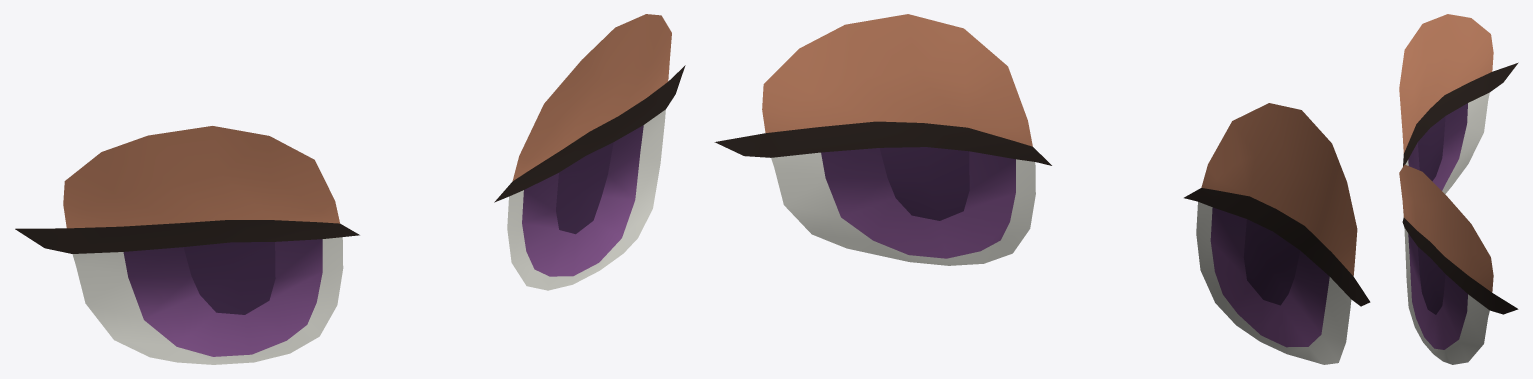
The model's file is Eye_Purple_3.fbx.
3 renders of one model, left to right at view 1: azimuth 30°, elevation 25°; view 2: azimuth 150°, elevation 25°; view 3: azimuth 270°, elevation 25°, orthographic. The views are drawn at different scales.
Visible parts, largest first — view 1: Eye_Purple_3; view 2: Eye_Purple_3; view 3: Eye_Purple_3.
Part boxes in pixels (x1,y1,x2,y2): Eye_Purple_3: (15, 14, 685, 364); Eye_Purple_3: (714, 14, 1370, 364); Eye_Purple_3: (1399, 14, 1518, 364).
Bounding box in the file's own units: 41.23 × 14.51 × 8.45.
